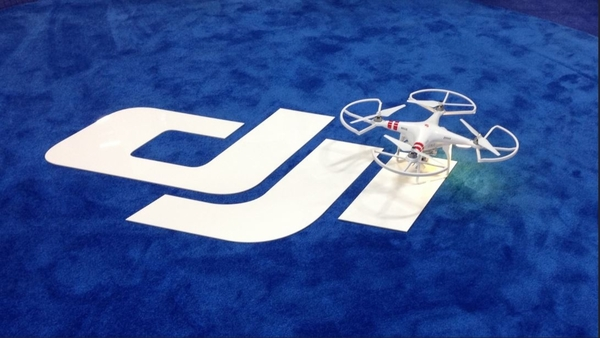drone: (338, 86, 521, 186)
